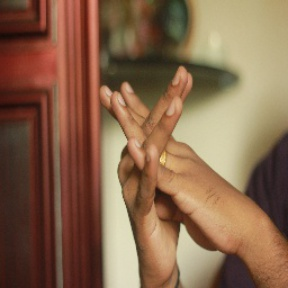W: (91, 59, 233, 251)
